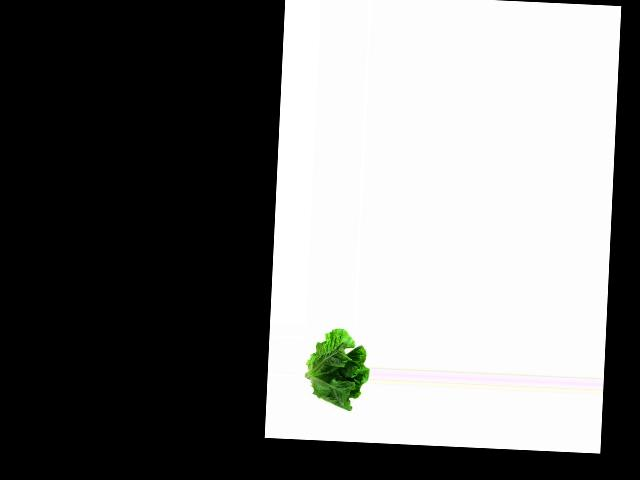lettuce: (306, 328, 370, 413)
